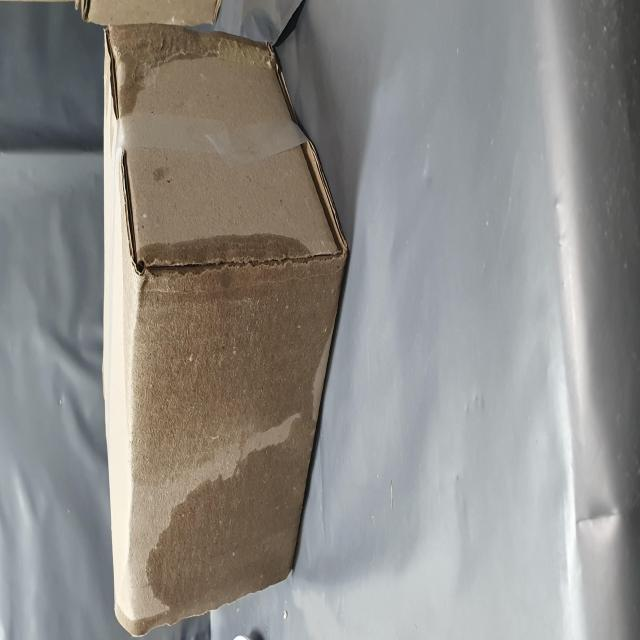wet: (5, 214, 238, 613), (294, 186, 346, 408)
